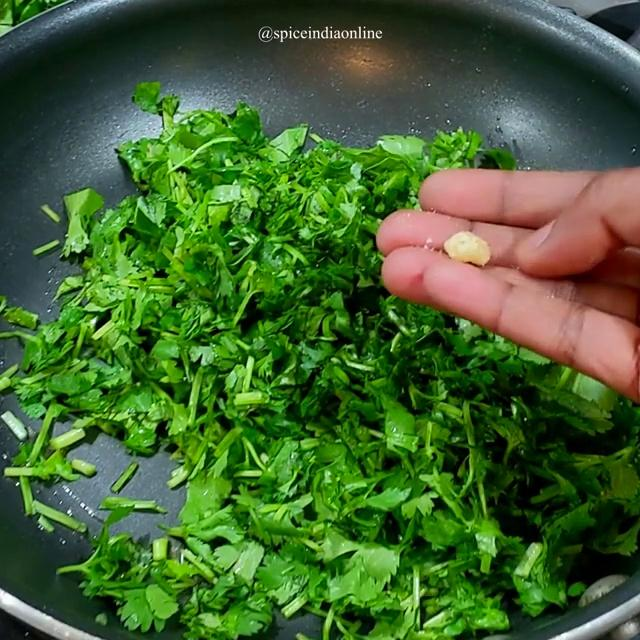cilantro: (101, 136, 374, 609)
